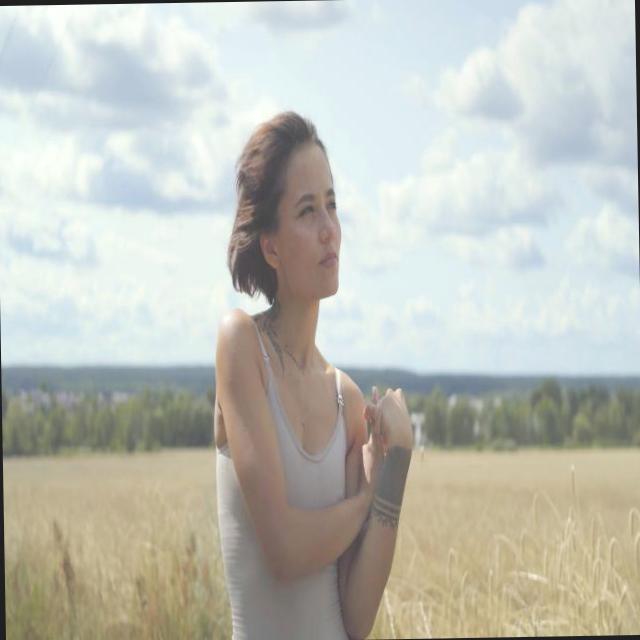person: (207, 107, 418, 640)
